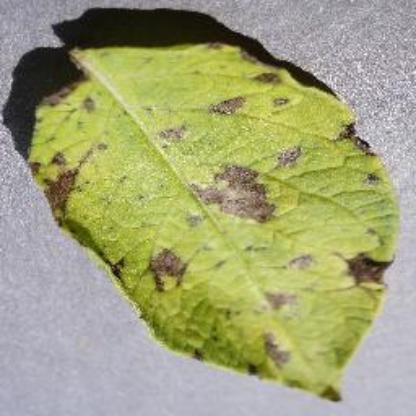Early-Blight: (27, 27, 403, 401)
